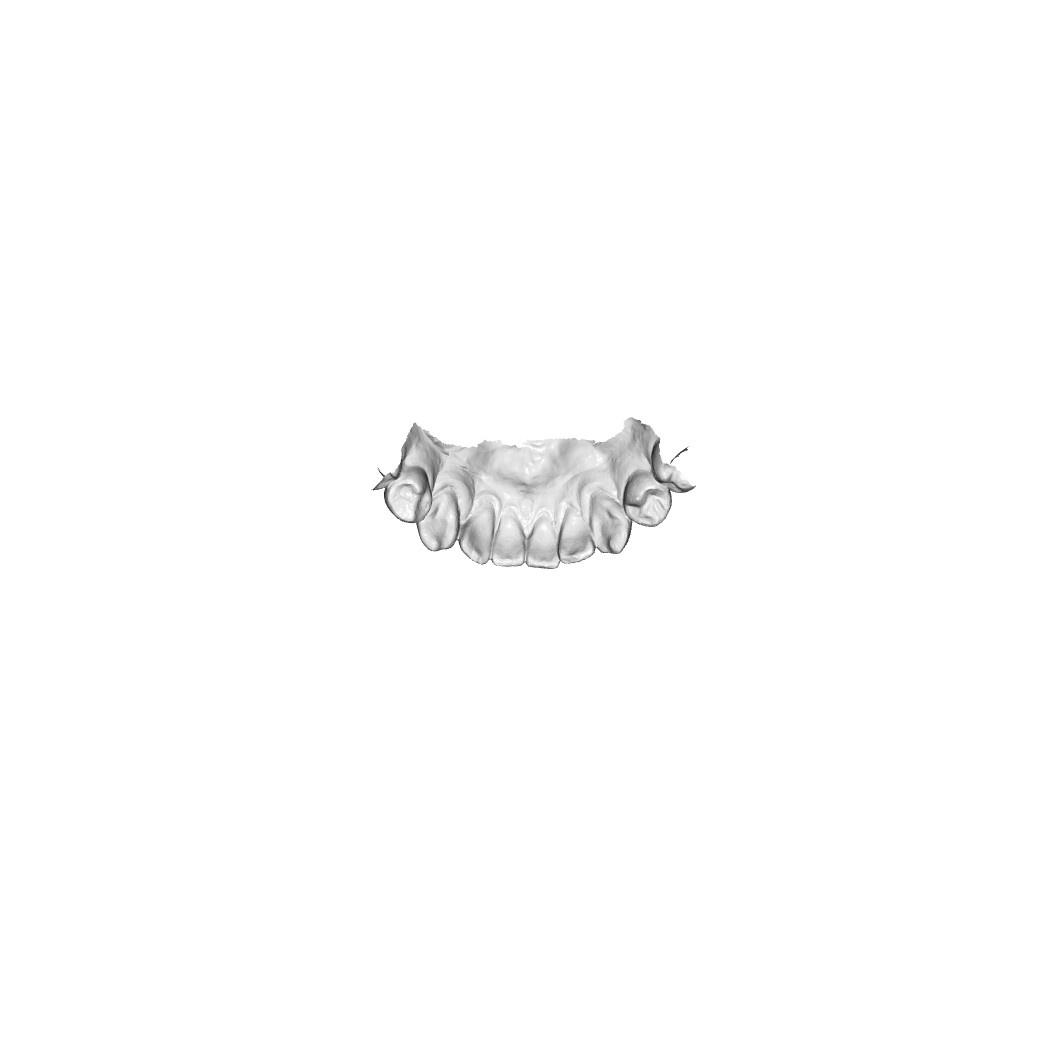canine: (589, 492, 630, 556), (420, 493, 461, 547)
incisor: (460, 502, 498, 560), (497, 505, 528, 570), (561, 509, 597, 560), (528, 516, 558, 566)
premolar: (385, 469, 437, 524), (625, 472, 672, 523)
